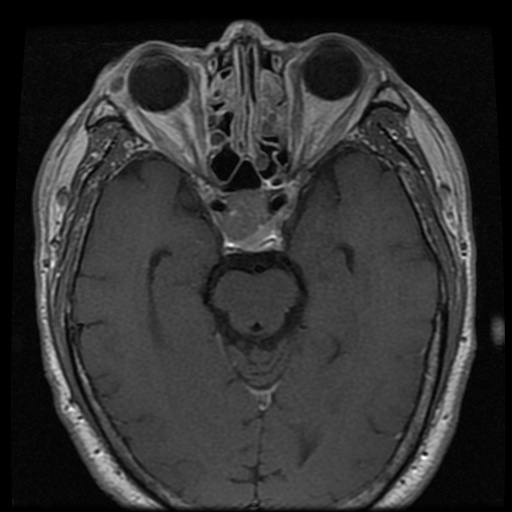pituitary: (222, 189, 270, 243)
